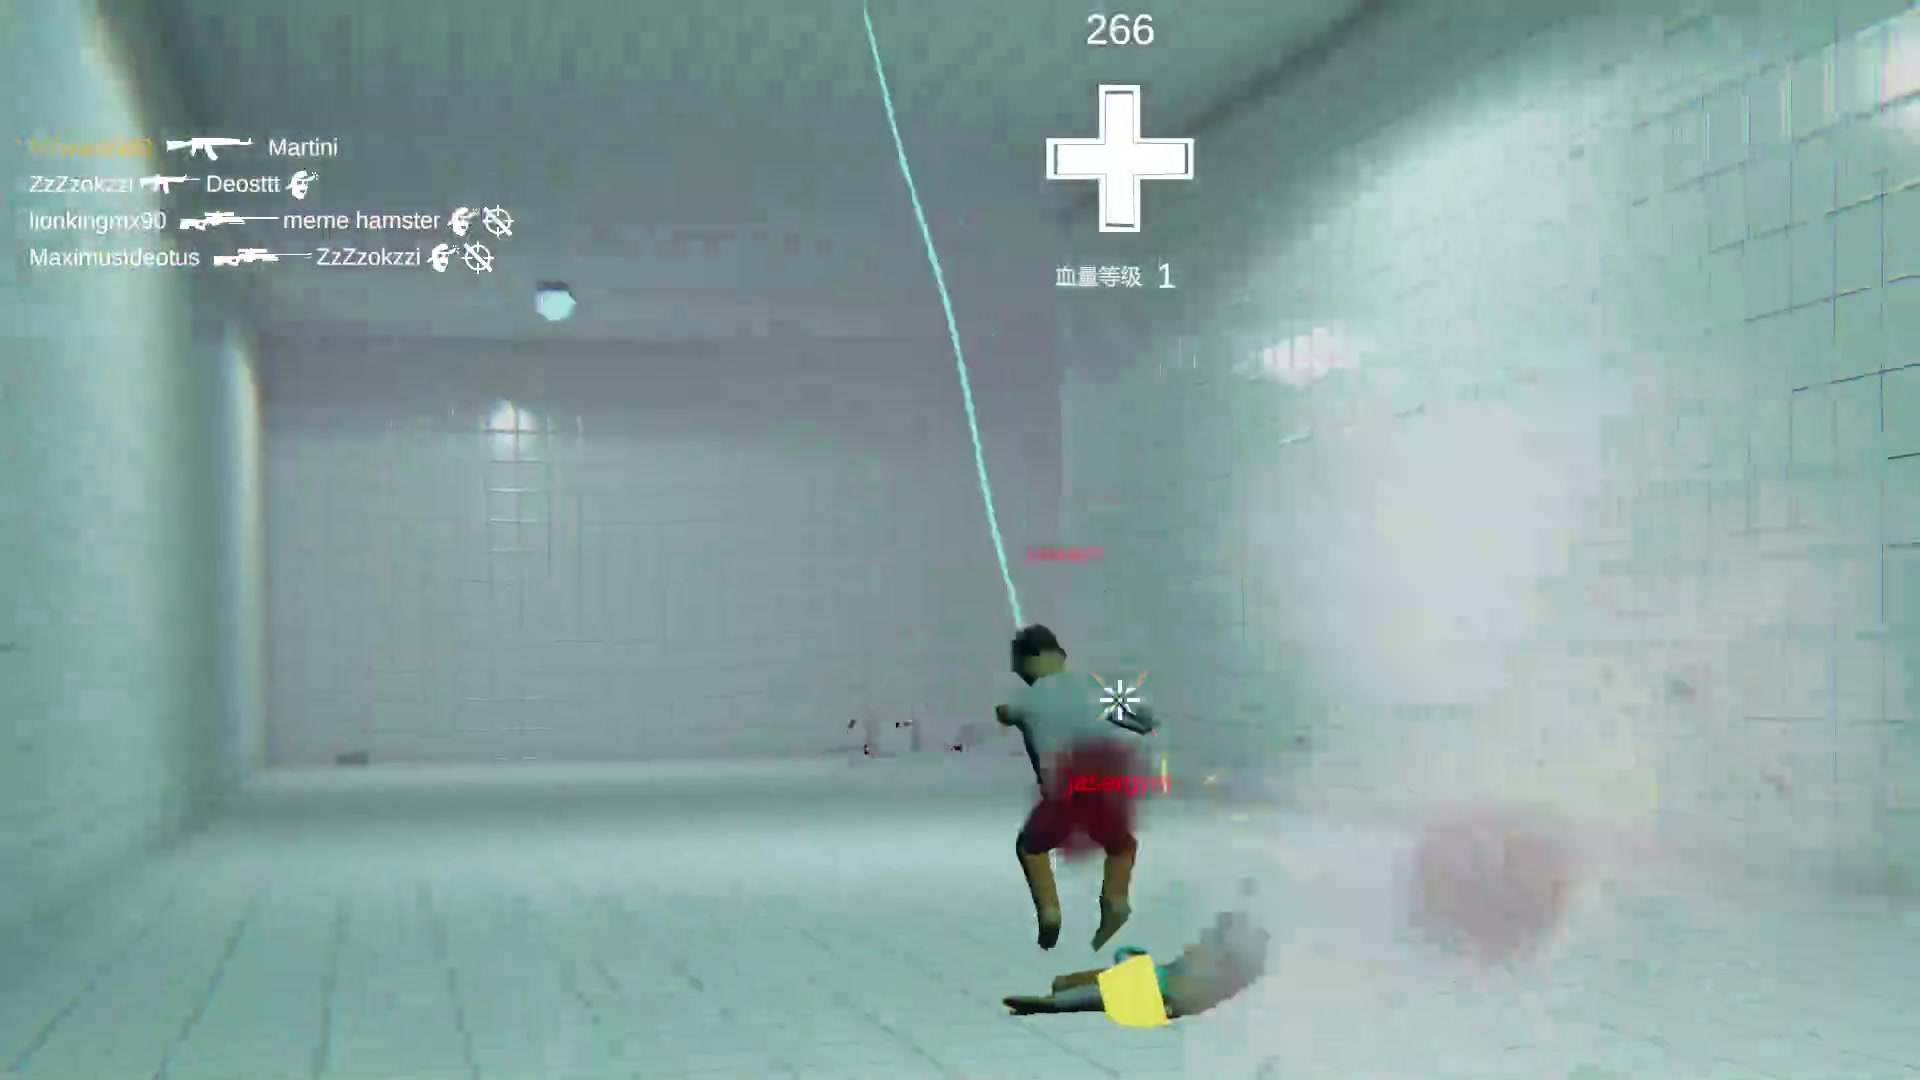died: (1070, 965, 1262, 1018)
human: (1014, 627, 1141, 941)
